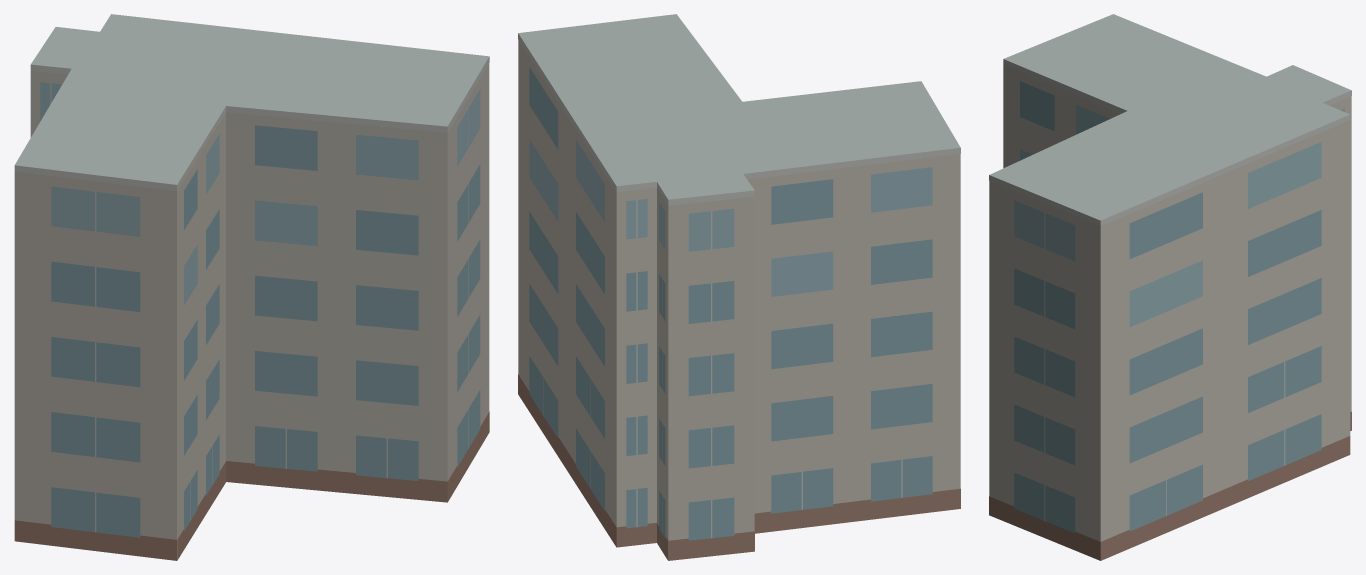
File: survey-upis-32651406.glb
The picture shows the model from 3 angles, left to right: view 1: azimuth 30°, elevation 25°; view 2: azimuth 150°, elevation 25°; view 3: azimuth 270°, elevation 25°; orthographic projection. The views are drawn at different scales.
Visible parts, largest first — view 1: survey-upis-32651406.tmp; view 2: survey-upis-32651406.tmp; view 3: survey-upis-32651406.tmp.
Part boxes in pixels (x1,y1,x2,y2): survey-upis-32651406.tmp: (14, 14, 489, 560); survey-upis-32651406.tmp: (518, 14, 960, 560); survey-upis-32651406.tmp: (989, 14, 1351, 560).
Bounding box in the file's own units: 19.15 × 14.7 × 14.2.
